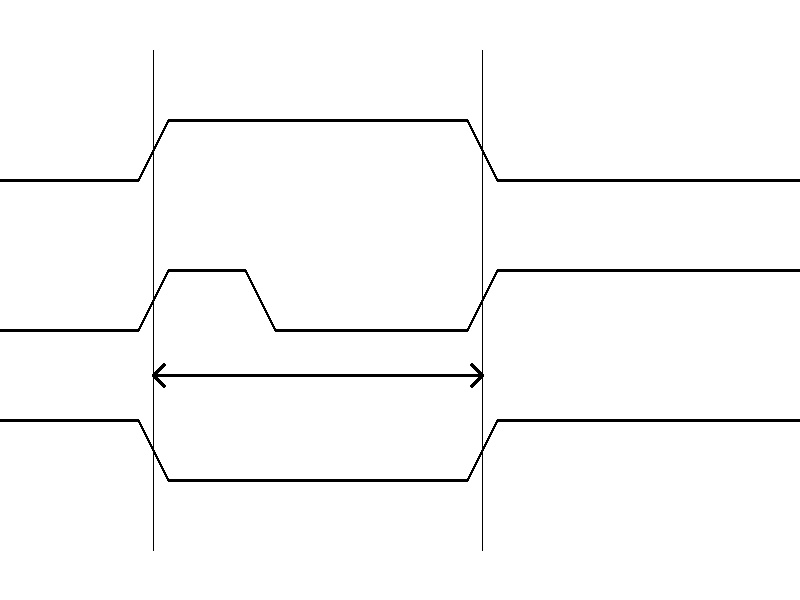double_arrow: (153, 360, 482, 390)
